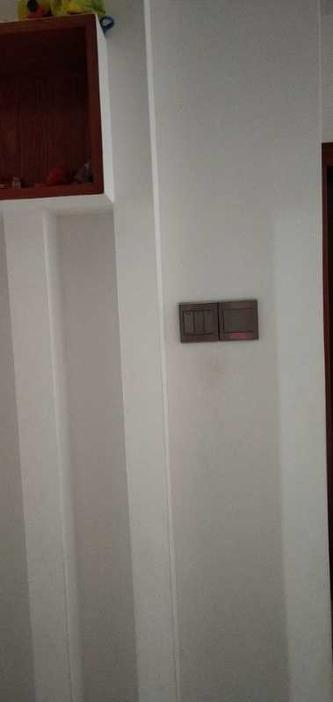switch: (235, 306, 267, 338), (178, 306, 192, 334), (195, 308, 207, 338), (216, 307, 222, 338)
